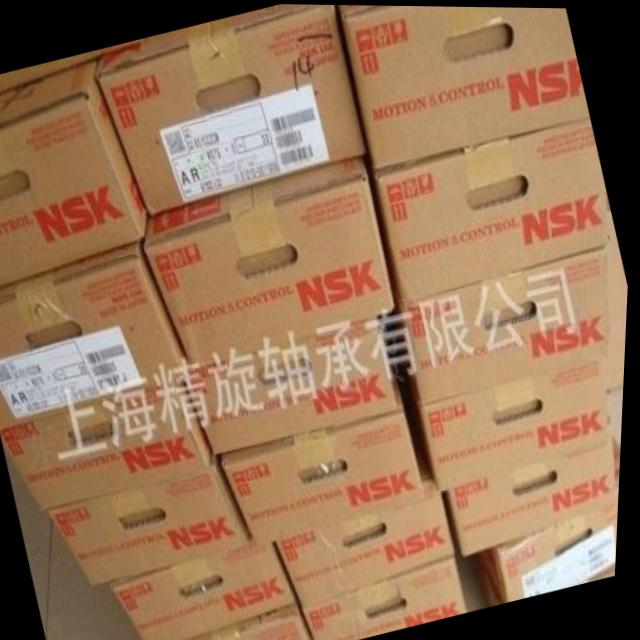box: (97, 3, 365, 212), (145, 154, 398, 368), (373, 114, 607, 298), (337, 4, 591, 167), (0, 239, 192, 430), (0, 48, 151, 289), (227, 368, 428, 546), (403, 246, 610, 401), (282, 433, 460, 608), (187, 315, 403, 454), (4, 375, 217, 511), (52, 454, 255, 586), (416, 354, 609, 488), (479, 436, 625, 606), (447, 415, 619, 555), (114, 537, 301, 640), (308, 550, 473, 640), (606, 182, 630, 389), (193, 602, 318, 640)
